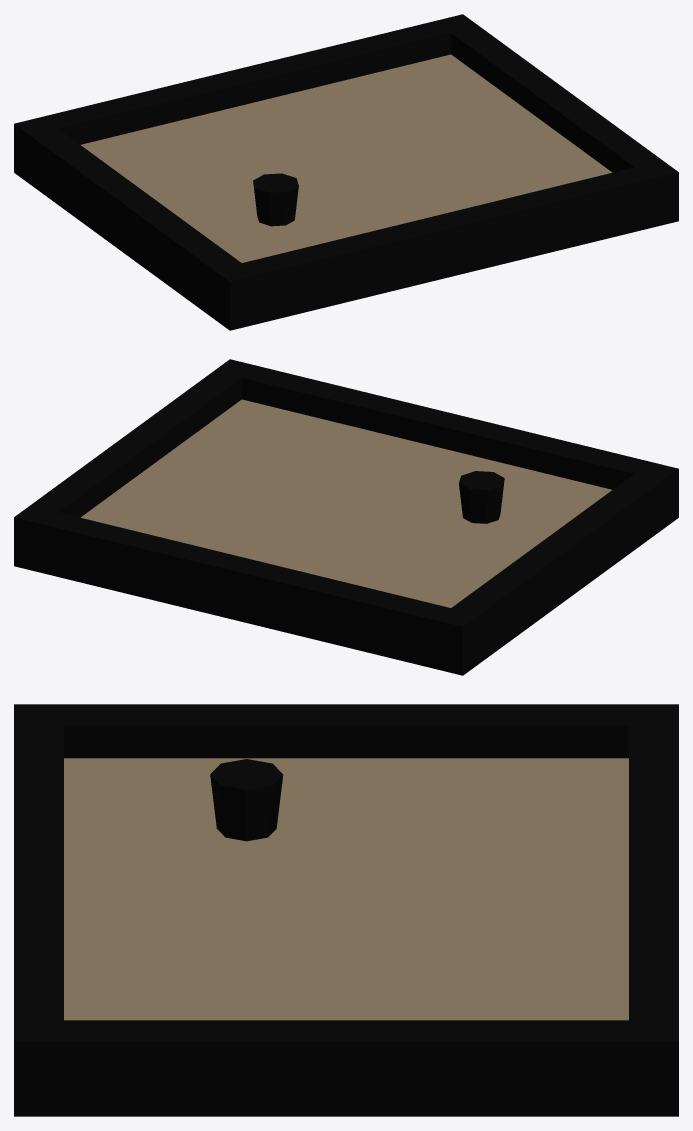
Rendered from Sandbox.fbx.
The picture shows the model from 3 angles, top to bottom: view 1: azimuth 30°, elevation 25°; view 2: azimuth 150°, elevation 25°; view 3: azimuth 270°, elevation 25°; orthographic projection. The views are drawn at different scales.
Visible parts, largest first — view 1: Curb, Sand, Bucket; view 2: Curb, Sand, Bucket; view 3: Sand, Curb, Bucket.
Boxes of the visible parts, left/top/right/bottom form: Curb: left=14, top=14, right=678, bottom=330; Sand: left=81, top=54, right=611, bottom=262; Bucket: left=253, top=173, right=298, bottom=226; Curb: left=14, top=359, right=678, bottom=675; Sand: left=81, top=399, right=611, bottom=607; Bucket: left=459, top=471, right=504, bottom=523; Sand: left=64, top=758, right=628, bottom=1020; Curb: left=14, top=704, right=678, bottom=1116; Bucket: left=210, top=759, right=283, bottom=841.
Size of the model in its own units: 2.4 by 0.32 by 2.
